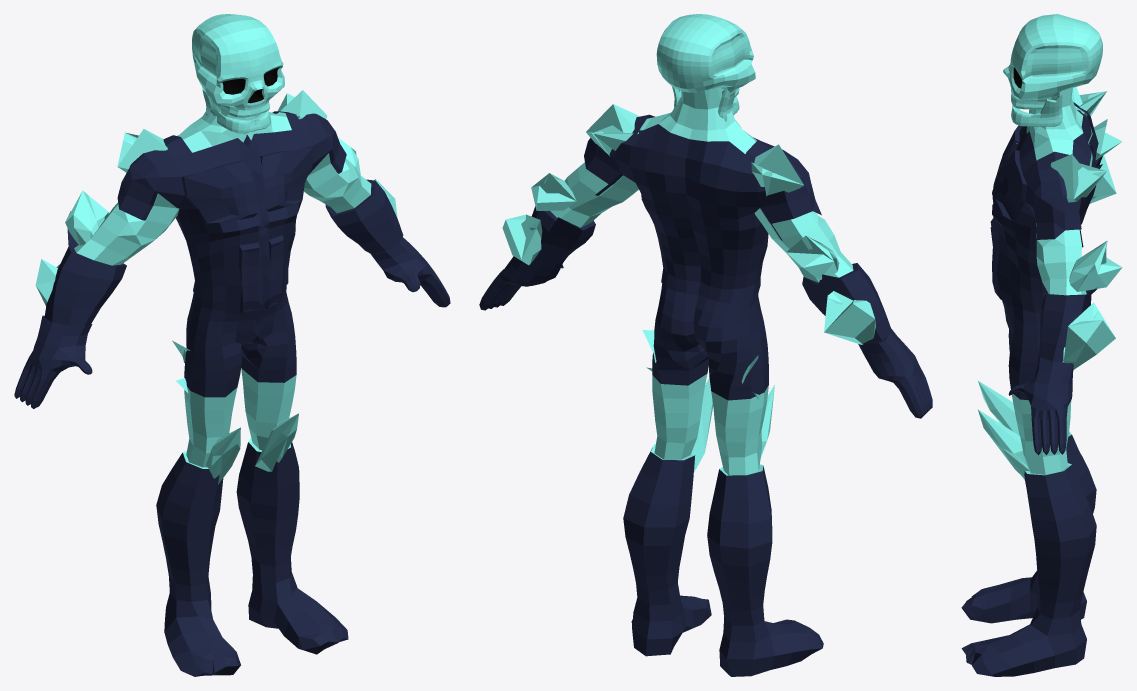
File: javelin_skeleton.fbx
3 renders of one model, left to right at view 1: azimuth 30°, elevation 25°; view 2: azimuth 150°, elevation 25°; view 3: azimuth 270°, elevation 25°, orthographic. The views are drawn at different scales.
Visible parts, largest first — view 1: GEO-body_male_stylized.002, Cube.002, Cube.008, Cube.007, Cube.001, Cube.006; view 2: GEO-body_male_stylized.002, Cube.002, Cube.006, Cube.007, Cube.001, Cube.008; view 3: GEO-body_male_stylized.002, Cube.002, Cube.006, Cube.008, Cube.001, Cube.007.
Boxes of the visible parts, x1=… form: GEO-body_male_stylized.002: x1=14, y1=106, x2=450, y2=676; Cube.002: x1=192, y1=14, x2=284, y2=133; Cube.008: x1=205, y1=413, x2=298, y2=484; Cube.007: x1=117, y1=90, x2=327, y2=172; Cube.001: x1=65, y1=137, x2=360, y2=245; Cube.006: x1=35, y1=179, x2=397, y2=306; GEO-body_male_stylized.002: x1=479, y1=87, x2=932, y2=676; Cube.002: x1=656, y1=14, x2=755, y2=121; Cube.006: x1=502, y1=214, x2=876, y2=344; Cube.007: x1=586, y1=104, x2=804, y2=196; Cube.001: x1=531, y1=173, x2=839, y2=279; Cube.008: x1=691, y1=378, x2=774, y2=473; GEO-body_male_stylized.002: x1=961, y1=88, x2=1102, y2=676; Cube.002: x1=1003, y1=14, x2=1102, y2=126; Cube.006: x1=1062, y1=155, x2=1116, y2=369; Cube.008: x1=978, y1=381, x2=1028, y2=480; Cube.001: x1=1069, y1=119, x2=1122, y2=291; Cube.007: x1=1050, y1=87, x2=1106, y2=202.
Bounding box in the file's own units: 992 × 1364 × 320.
